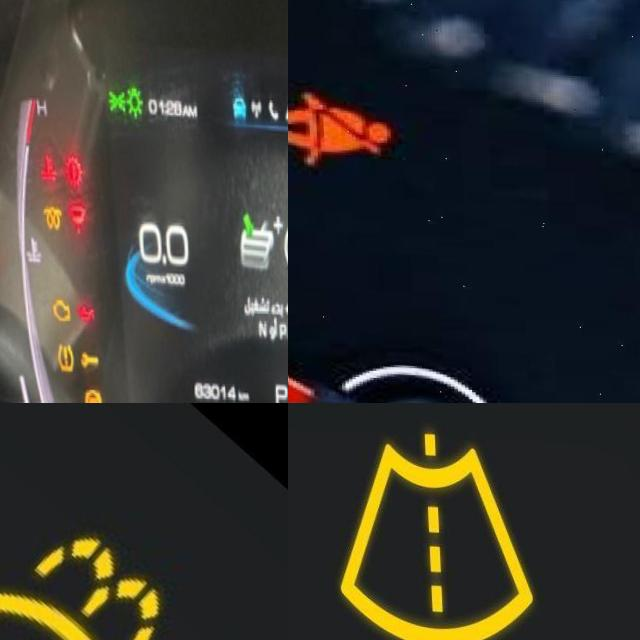High Engine Coolant Temperature: (35, 149, 58, 183)
Seat Belt: (288, 89, 387, 163)
Washer Fluid: (334, 423, 534, 640), (0, 522, 166, 640)
